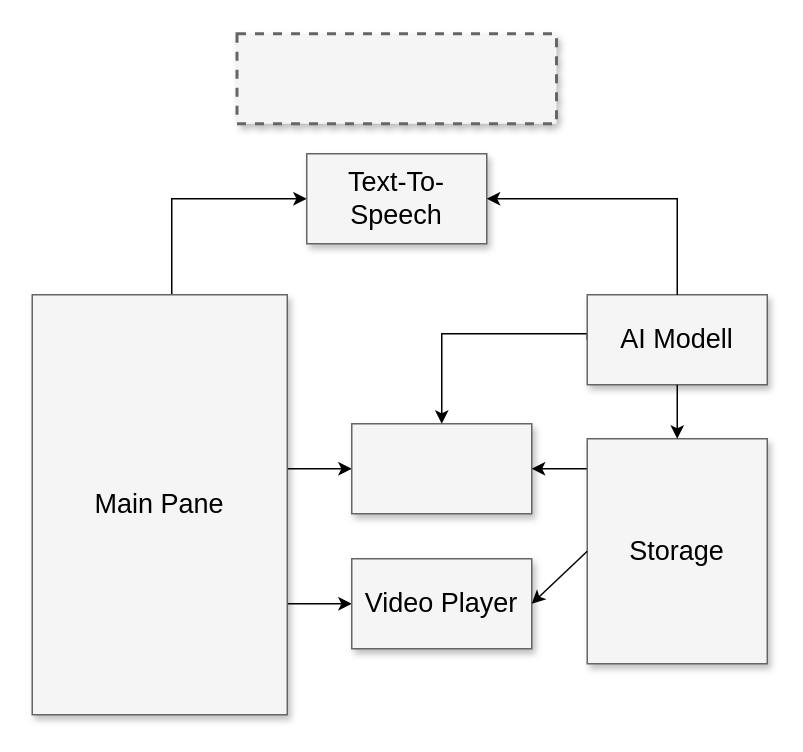
Some shapes in this 803 by 752 pixel diagram are drawn without their labels. The centre of each missing label's shape, as x and y in pixels:
Kameraaccess: the point at 442,470
Traffic Sign Detection: the point at 397,80
